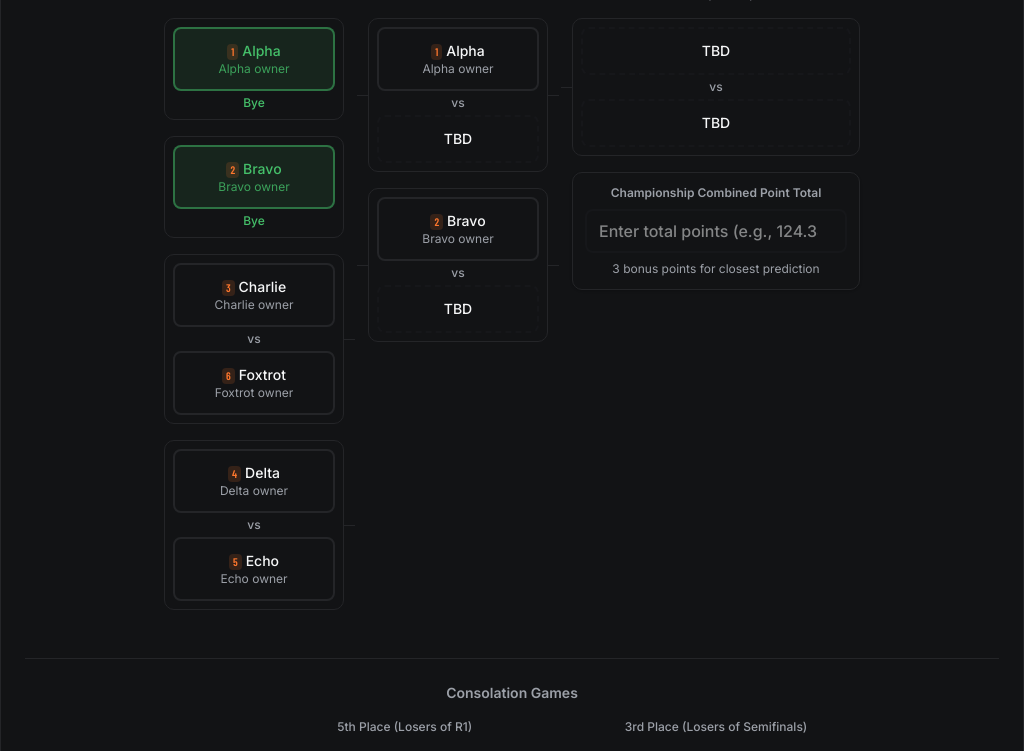
Test: PlayoffsBracket, 2026 and later › gives seed 1 the lowest survivor once both round-one games are picked
(page scrolled)
Click the text "Foxtrot" at coordinates (254, 375), box [222,366,286,384]
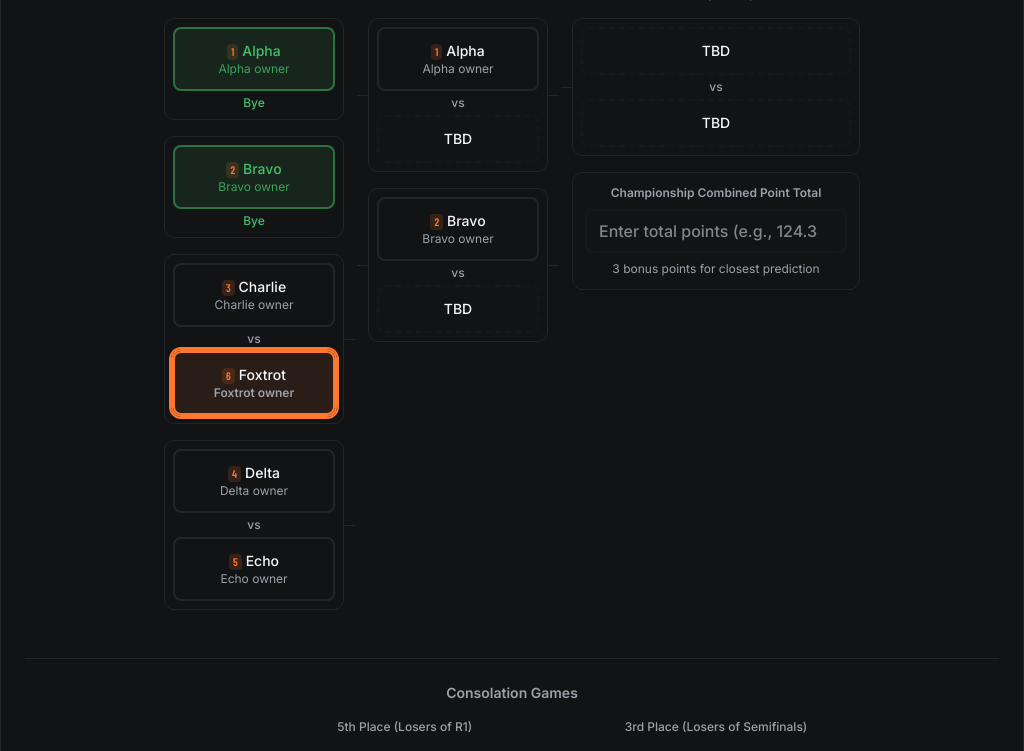
Click the text "Delta" at coordinates (254, 473), box [228,464,280,482]
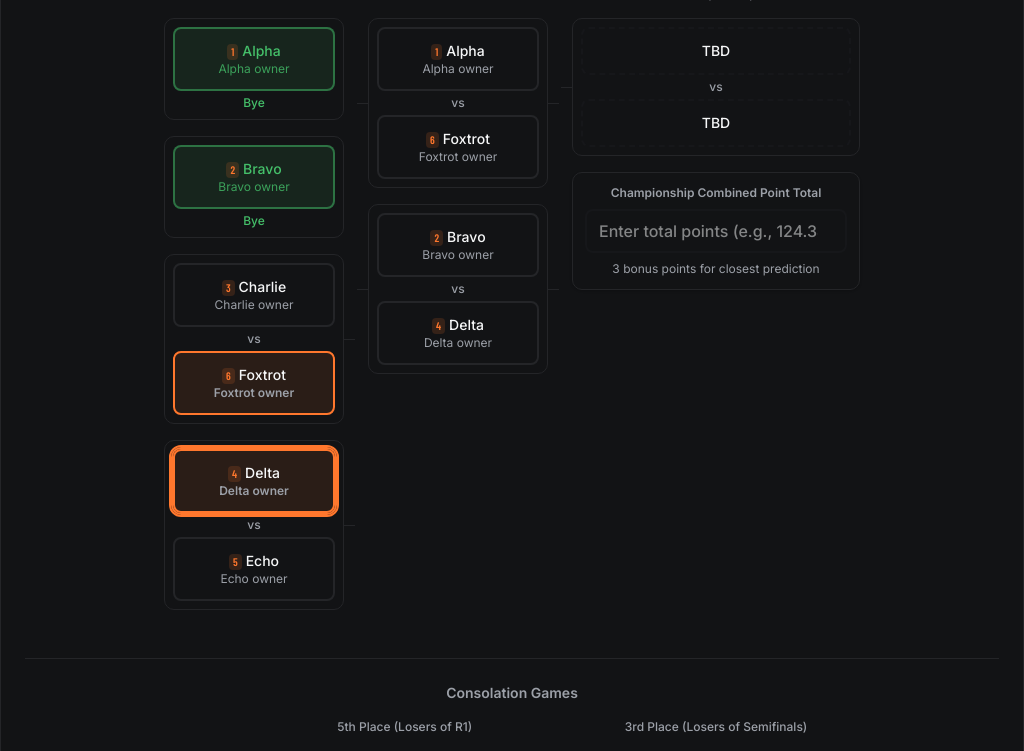
Expected: the 1st text "Foxtrot" is shown, [443,130,490,147]
Expected: the 1st text "Delta" is shown, [449,316,484,333]
